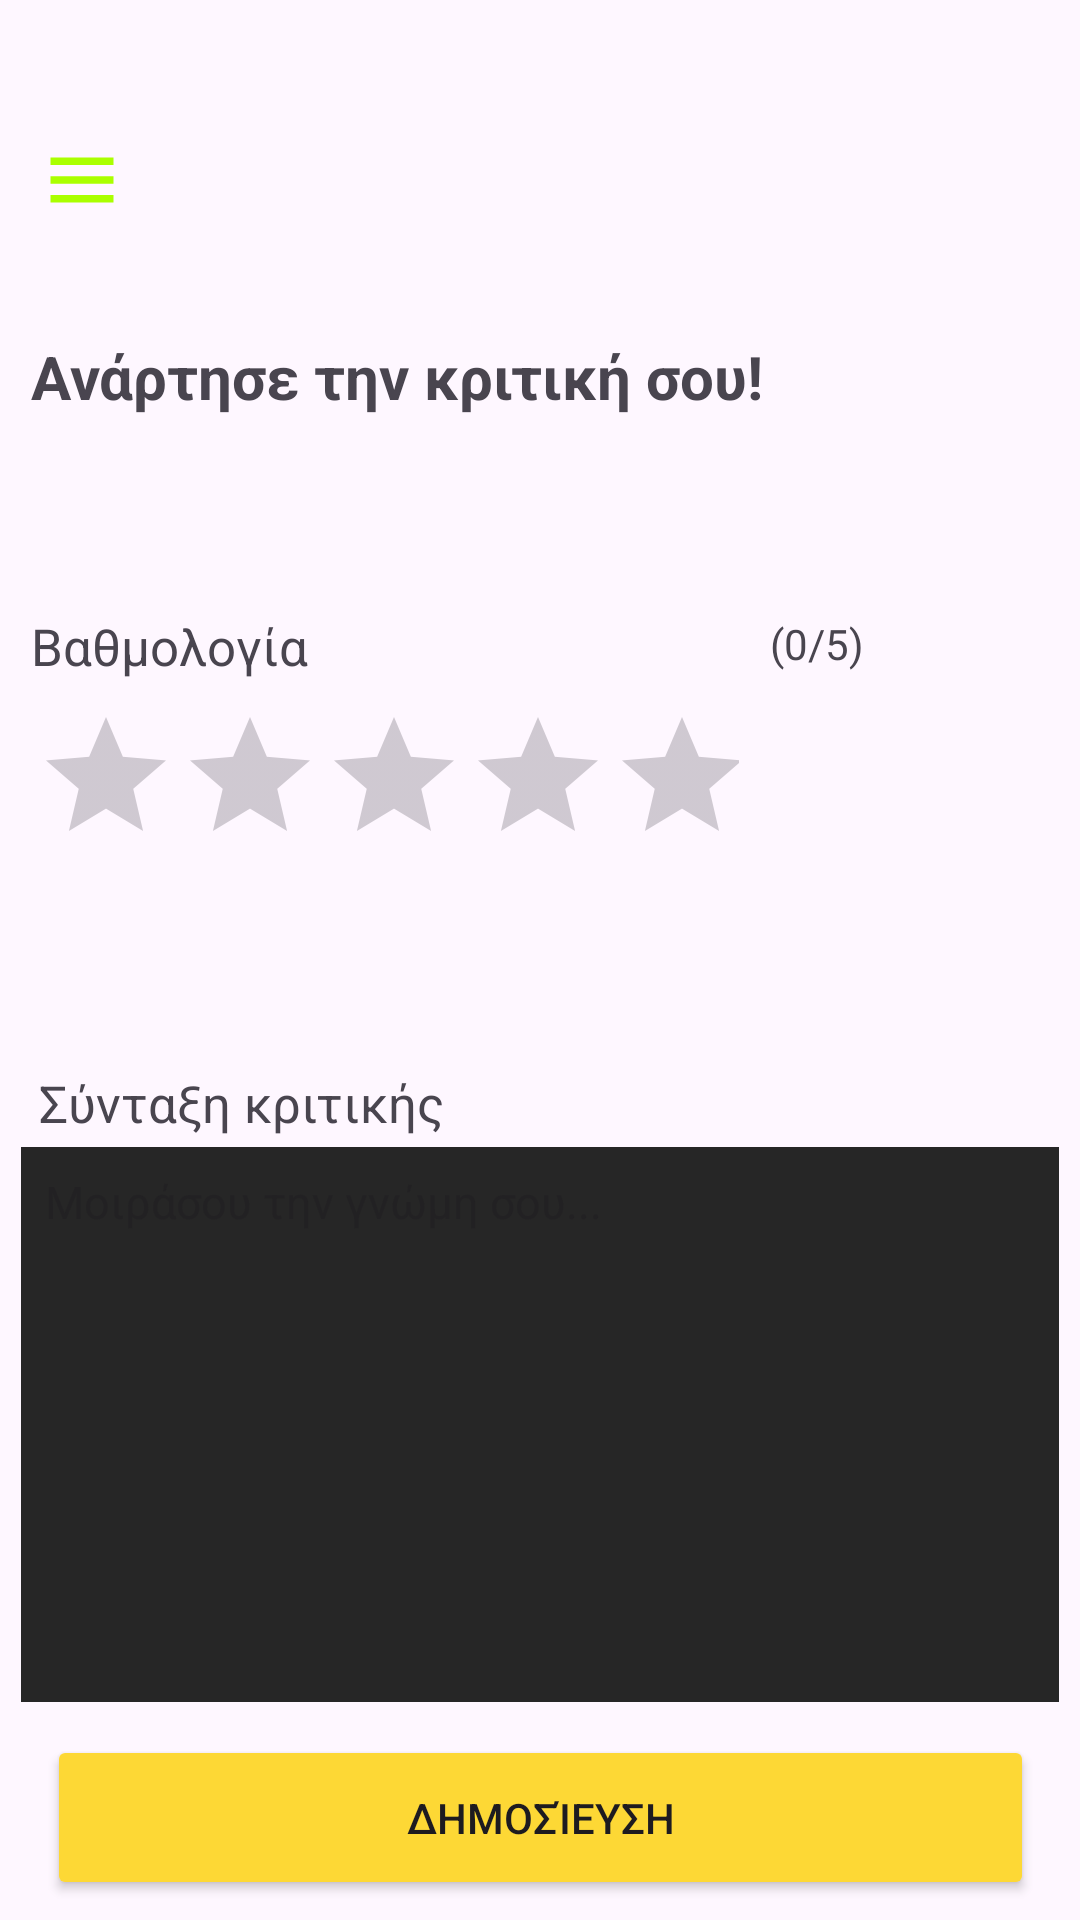

Point at icon controls on the screen. Image size 1080x1920, points as [x,y].
Menu: [82,180]
